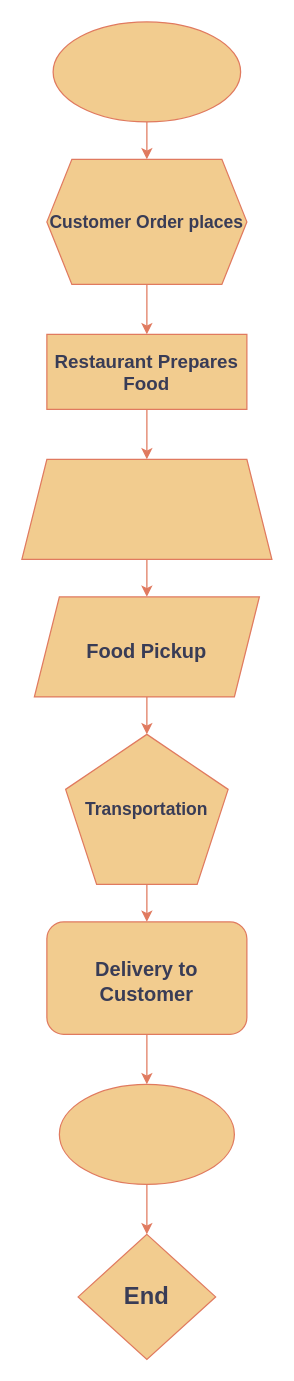
The diagram is 294 pixels wide and 1381 high, and some of its shapes have lost their labels. Here are the shapes that lost their labels. From the top down, the centre of each, then its label:
(146,71): Start
(146,508): Delivery Partner Assigned
(146,1133): Post-Delivery
